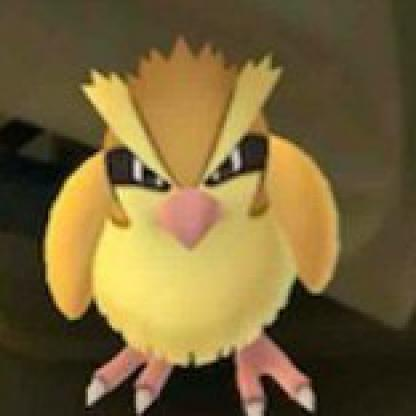Pidgey: (49, 29, 337, 416)
